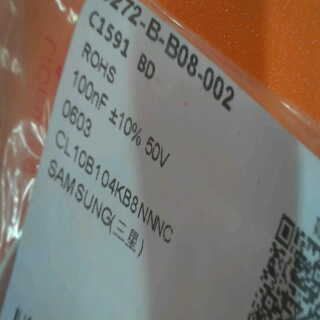100nF: (65, 68, 108, 112)
